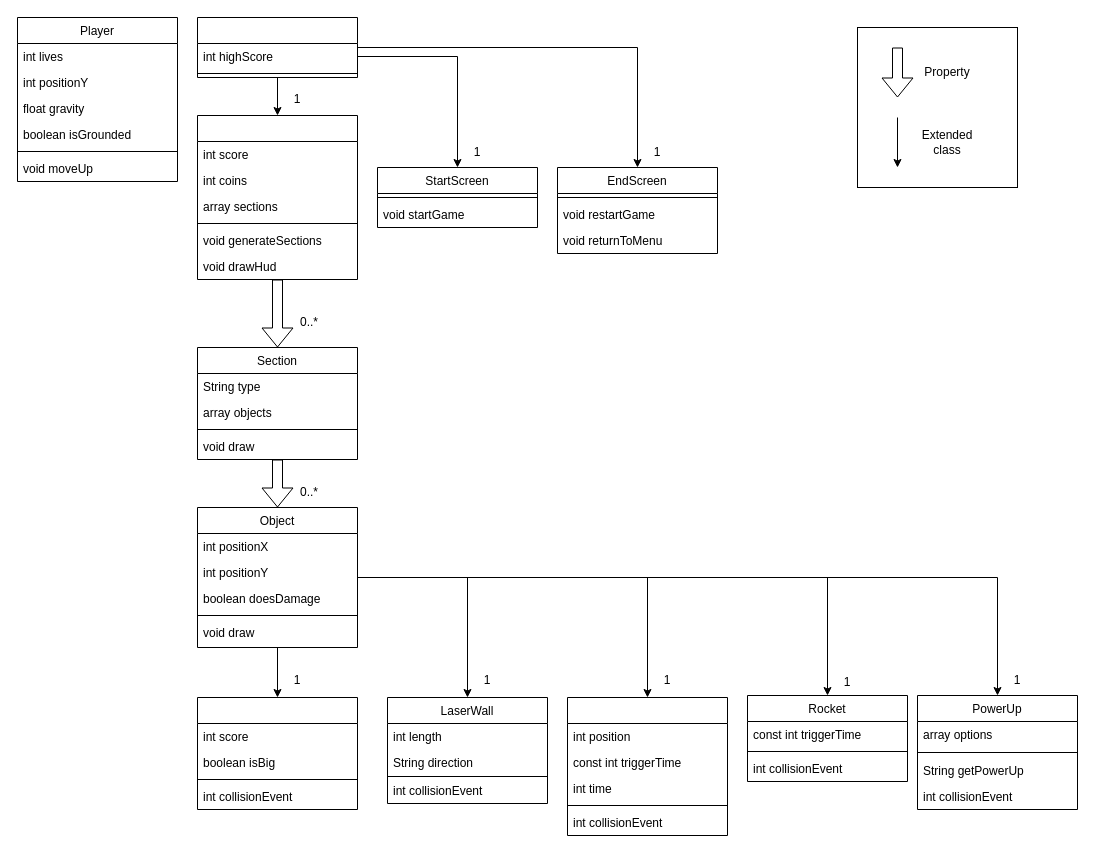
This 1095x856 diagram has some shape labels left out. The shapes that lost their labels are listed below. From the top down, each one's box as (x1, y1, x2, y2) in pixels, then its label:
(196, 16, 358, 78): Screen
(196, 114, 358, 280): GameScreen
(196, 696, 358, 810): Coin
(566, 696, 728, 836): LaserBeam
